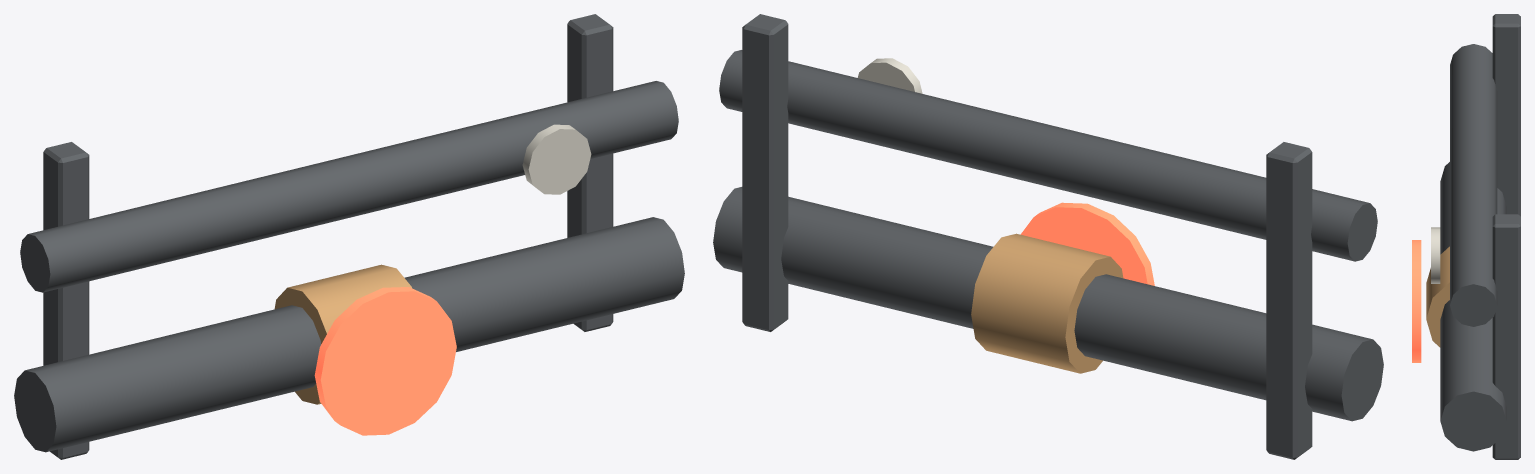
The model's file is pipe_valve.glb.
3 renders of one model, left to right at view 1: azimuth 30°, elevation 25°; view 2: azimuth 150°, elevation 25°; view 3: azimuth 270°, elevation 25°, orthographic. The views are drawn at different scales.
Visible parts, largest first — view 1: pipe_valve; view 2: pipe_valve; view 3: pipe_valve.
Part boxes in pixels (x1,y1,x2,y2): pipe_valve: [14, 14, 684, 459]; pipe_valve: [713, 14, 1383, 459]; pipe_valve: [1412, 14, 1520, 459].
Bounding box in the file's own units: 1.2 × 0.555 × 0.23.
